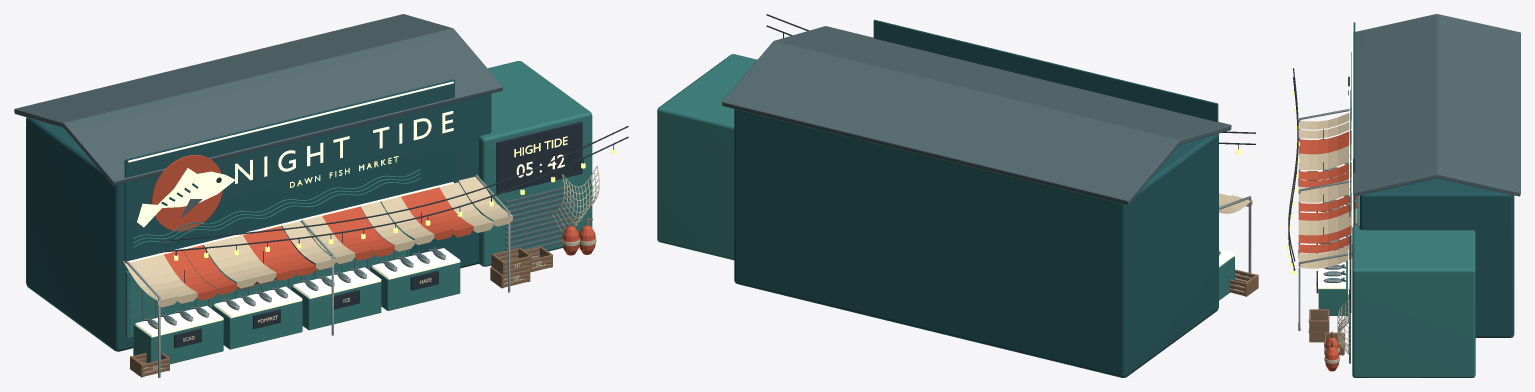
File: lonja.glb
The picture shows the model from 3 angles, left to right: view 1: azimuth 30°, elevation 25°; view 2: azimuth 150°, elevation 25°; view 3: azimuth 270°, elevation 25°; orthographic projection. The views are drawn at different scales.
Parts seen in each view (by area): view 1: Petrol, Steel, TealTile, Vermilion, Canvas, Parchment, Ink, Wood, Edge, Cream, Blue, Butter; view 2: Petrol, Steel, TealTile, Wood, Parchment; view 3: Steel, TealTile, Petrol, Canvas, Vermilion, Parchment, Edge, Wood, Ink, Cream, Amber.
Boxes of the visible parts, box(x1,y1,x2,y2) form: Petrol: box(26, 79, 491, 351); Steel: box(14, 14, 574, 338); TealTile: box(125, 61, 592, 366); Vermilion: box(151, 155, 595, 300); Canvas: box(123, 176, 512, 307); Parchment: box(128, 81, 564, 337); Ink: box(154, 121, 628, 348); Wood: box(130, 218, 592, 377); Edge: box(126, 174, 510, 377); Cream: box(153, 165, 599, 370); Blue: box(149, 249, 443, 325); Butter: box(290, 136, 567, 187); Petrol: box(734, 19, 1218, 377); Steel: box(722, 26, 1231, 204); TealTile: box(657, 54, 1234, 300); Wood: box(1229, 269, 1258, 296); Parchment: box(878, 20, 1234, 266); Steel: box(1340, 14, 1520, 363); TealTile: box(1318, 90, 1475, 377); Petrol: box(1348, 22, 1514, 337); Canvas: box(1298, 112, 1357, 268); Vermilion: box(1298, 52, 1357, 371); Parchment: box(1318, 23, 1353, 294); Edge: box(1298, 108, 1352, 330); Wood: box(1307, 171, 1353, 355); Ink: box(1288, 68, 1351, 312); Cream: box(1308, 212, 1349, 363); Amber: box(1287, 90, 1327, 274).
Size of the model in its own units: 16.37 by 6.45 by 8.15.
